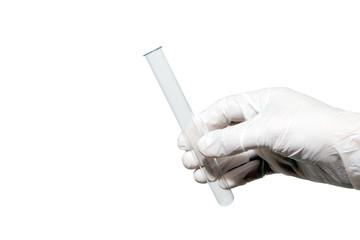Test tube: (128, 35, 240, 215)
